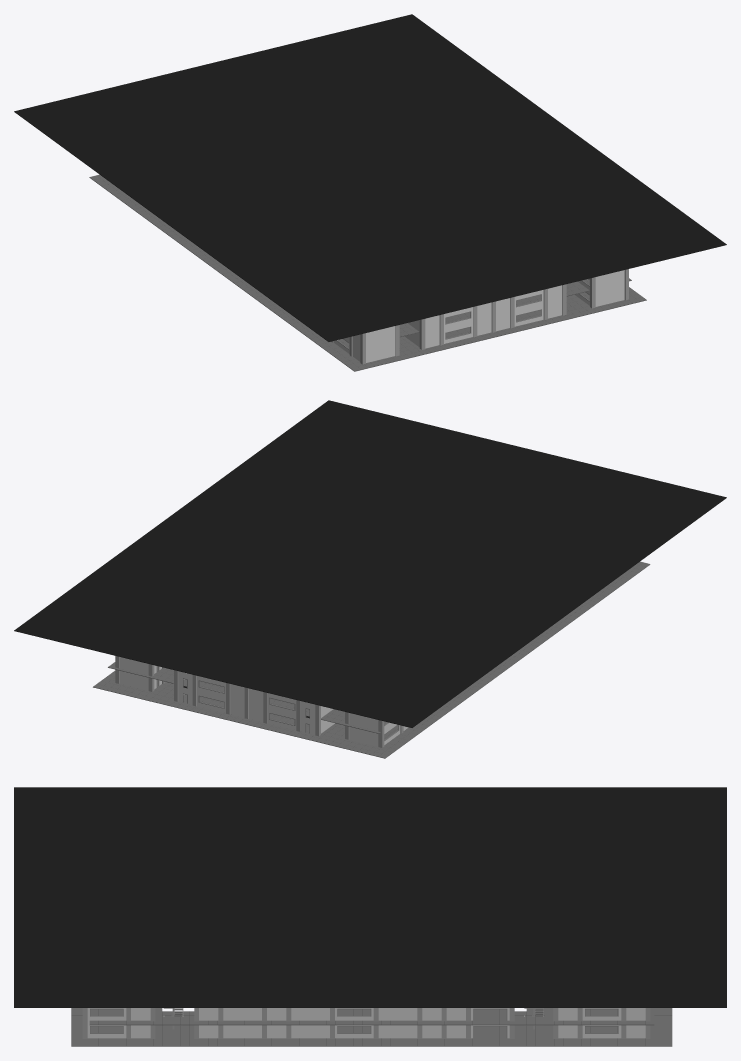
File: colegio.obj
The picture shows the model from 3 angles, top to bottom: view 1: azimuth 30°, elevation 25°; view 2: azimuth 150°, elevation 25°; view 3: azimuth 270°, elevation 25°; orthographic projection. The views are drawn at different scales.
Parts seen in each view (by area): view 1: mesh, Suelo, Pilar, pared_plana, pared_ventana; view 2: mesh, Suelo, Pilar, pared_plana, pared_ventana, pared_puerta; view 3: mesh, Suelo, pared_plana, Pilar, pared_ventana.
Boxes of the visible parts, x1,y1,x2,y2 form: mesh: [14, 14, 726, 341]; Suelo: [89, 174, 646, 371]; Pilar: [331, 269, 628, 364]; pared_plana: [405, 270, 624, 348]; pared_ventana: [444, 278, 589, 343]; mesh: [14, 400, 726, 727]; Suelo: [93, 561, 650, 758]; Pilar: [115, 656, 408, 747]; pared_plana: [119, 657, 334, 733]; pared_ventana: [197, 676, 296, 729]; pared_puerta: [154, 665, 315, 734]; mesh: [14, 787, 726, 1007]; Suelo: [71, 1008, 672, 1046]; pared_plana: [131, 1008, 645, 1038]; Pilar: [82, 1008, 650, 1038]; pared_ventana: [87, 1008, 621, 1038].
Size of the model in its own units: 343 by 50.31 by 470.
Materials: 9 (9 with a texture image).
